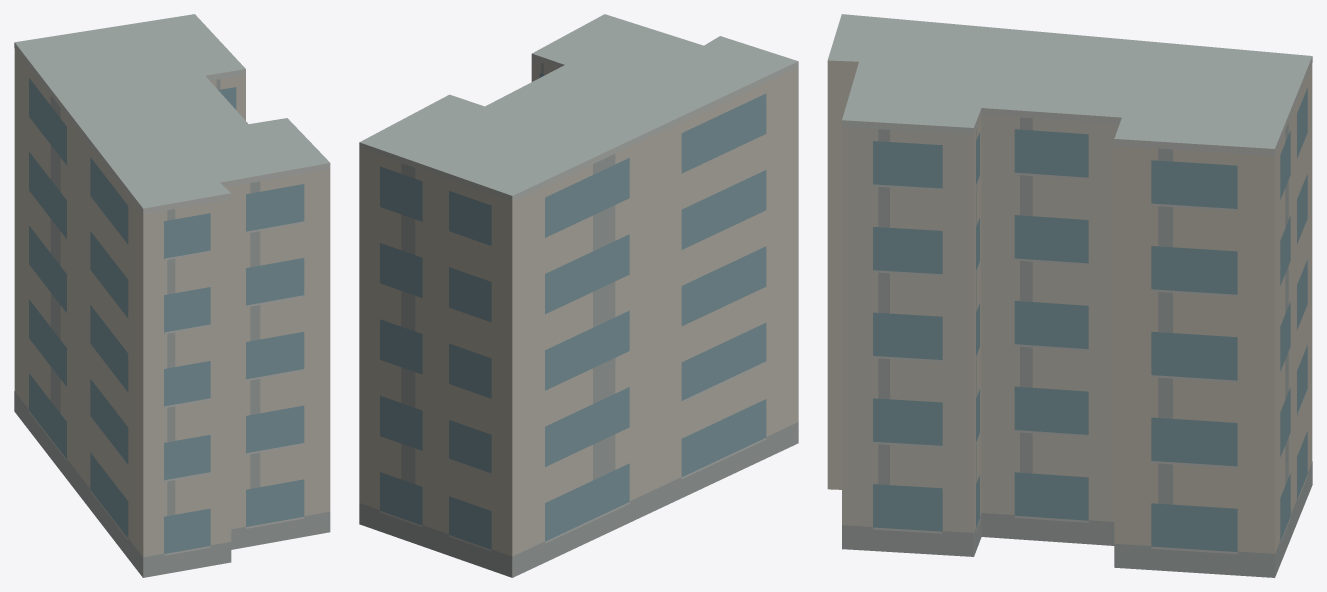
The model's file is survey-upis-32826575.glb.
3 views of the same model, side by side, from view 1: azimuth 30°, elevation 25°; view 2: azimuth 150°, elevation 25°; view 3: azimuth 270°, elevation 25° (orthographic). The views are drawn at different scales.
Visible parts, largest first — view 1: survey-upis-32826575.tmp; view 2: survey-upis-32826575.tmp; view 3: survey-upis-32826575.tmp.
Part boxes in pixels (x1,y1,x2,y2): survey-upis-32826575.tmp: [14, 14, 330, 577]; survey-upis-32826575.tmp: [359, 14, 798, 577]; survey-upis-32826575.tmp: [827, 14, 1312, 577].
Bounding box in the file's own units: 10.3 × 15.25 × 15.64.
